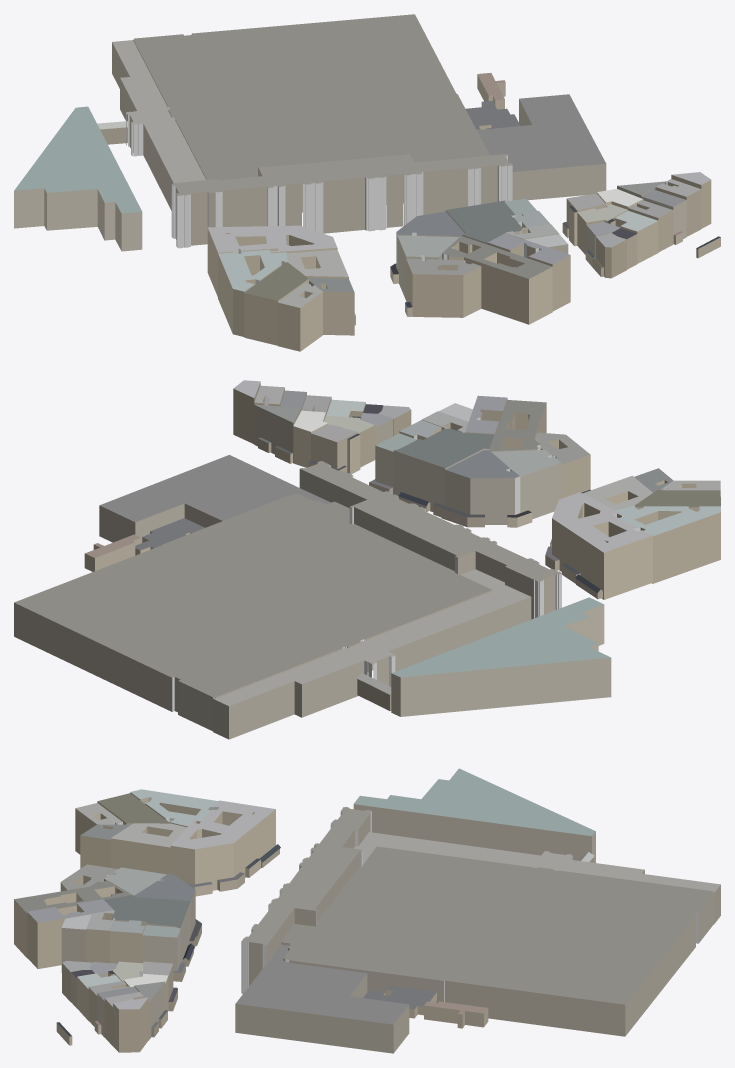
3 views of the same model, one above another, from view 1: azimuth 30°, elevation 25°; view 2: azimuth 150°, elevation 25°; view 3: azimuth 270°, elevation 25° (orthographic). The views are drawn at different scales.
Visible parts, largest first — view 1: tuile; view 2: tuile; view 3: tuile.
Part boxes in pixels (x1,y1,x2,y2): tuile: (14,14,720,351); tuile: (14,380,720,739); tuile: (14,768,720,1053).
Bounding box in the file's own units: 285 × 27.27 × 339.
